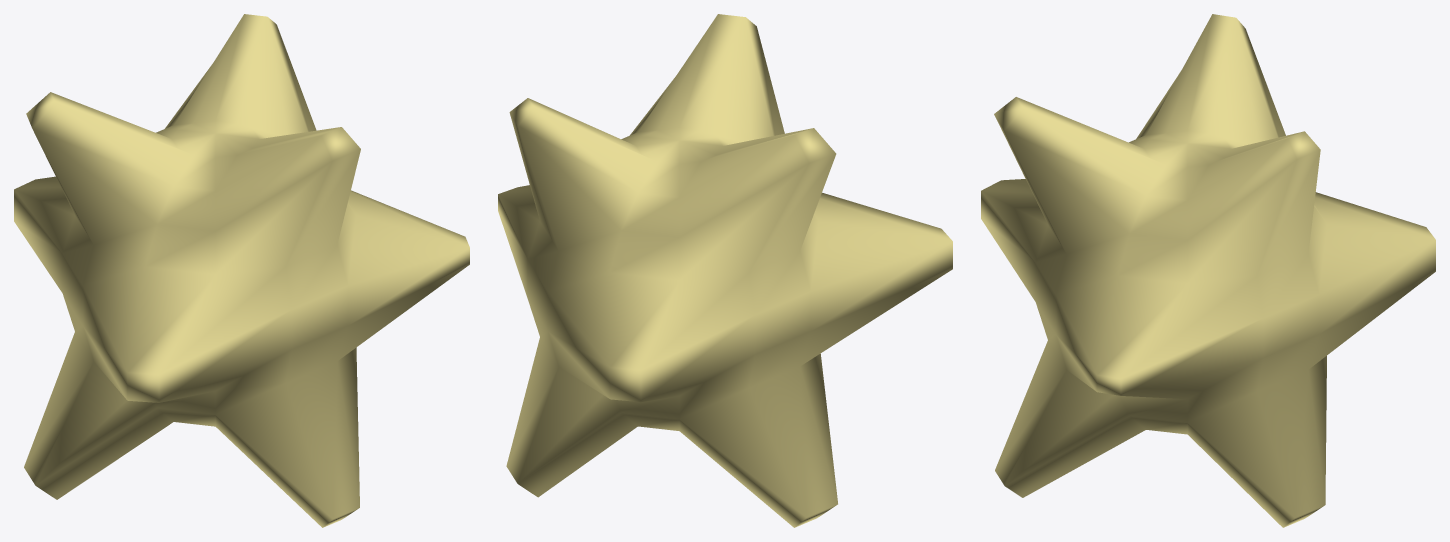
Rendered from conpait.fbx.
3 views of the same model, side by side, from view 1: azimuth 30°, elevation 25°; view 2: azimuth 150°, elevation 25°; view 3: azimuth 270°, elevation 25° (orthographic).
Visible parts, largest first — view 1: pSphere1; view 2: pSphere1; view 3: pSphere1.
Boxes of the visible parts, box(x1,y1,x2,y2) form: pSphere1: box(14, 14, 469, 527); pSphere1: box(498, 14, 952, 527); pSphere1: box(981, 14, 1435, 527).
Bounding box in the file's own units: 0.5952 × 0.5648 × 0.5927.
